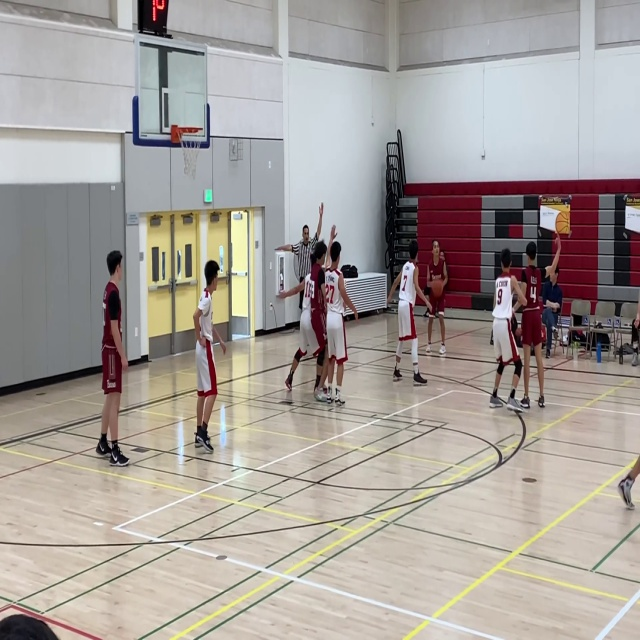Basketball: (431, 280, 444, 297)
